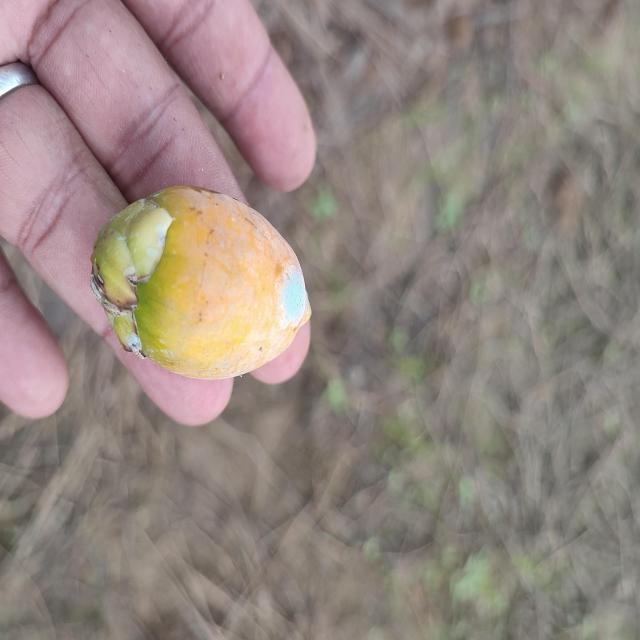good: (91, 187, 313, 385)
